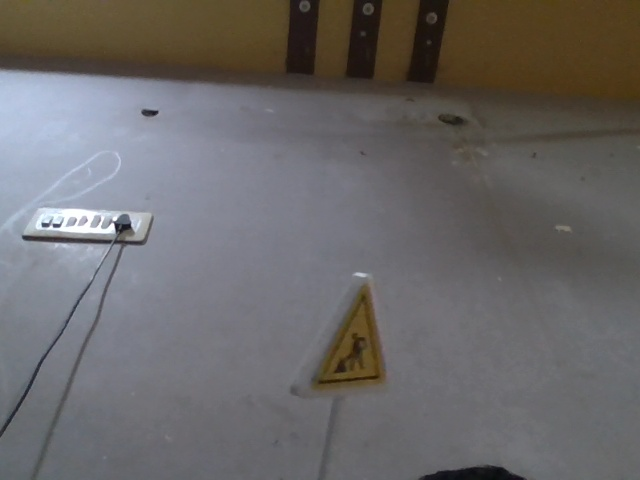workinprogress: (279, 281, 411, 385)
